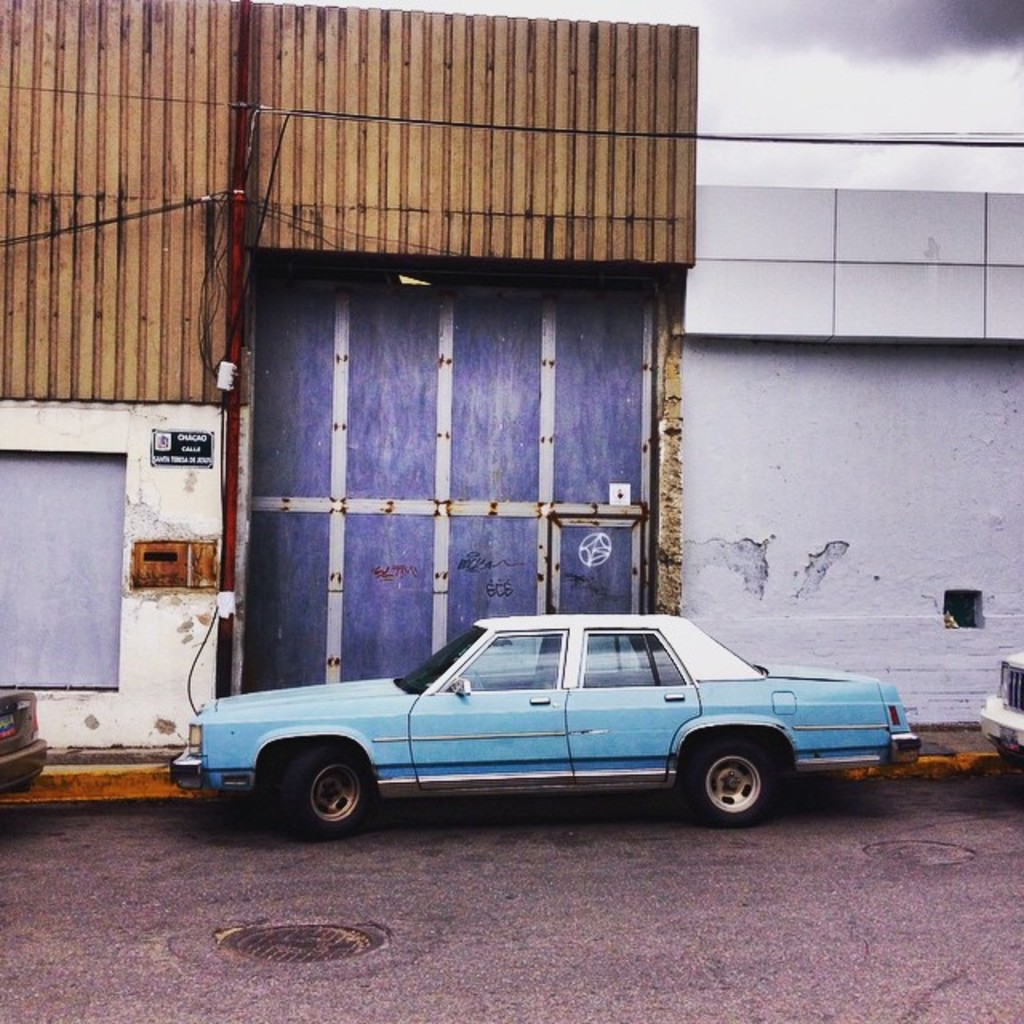mobil: (167, 607, 927, 834)
